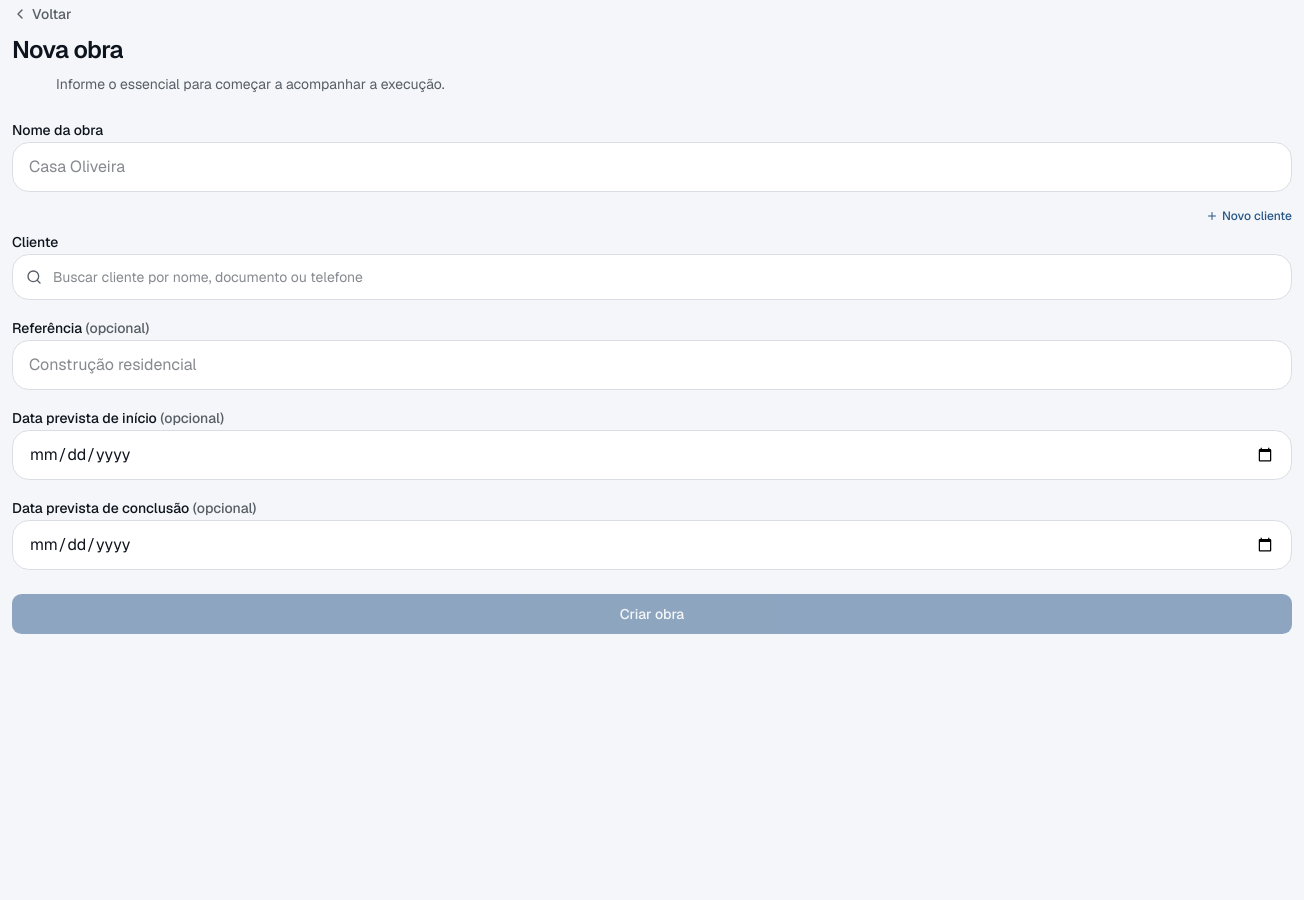
it: ProjectCreateForm › PC8: a 422 on name maps to the name field
This screenshot has width=1304, height=900.
Type "Casa" into the field labelled "Nome da obra" at (652, 167), box [12,142,1292,192]
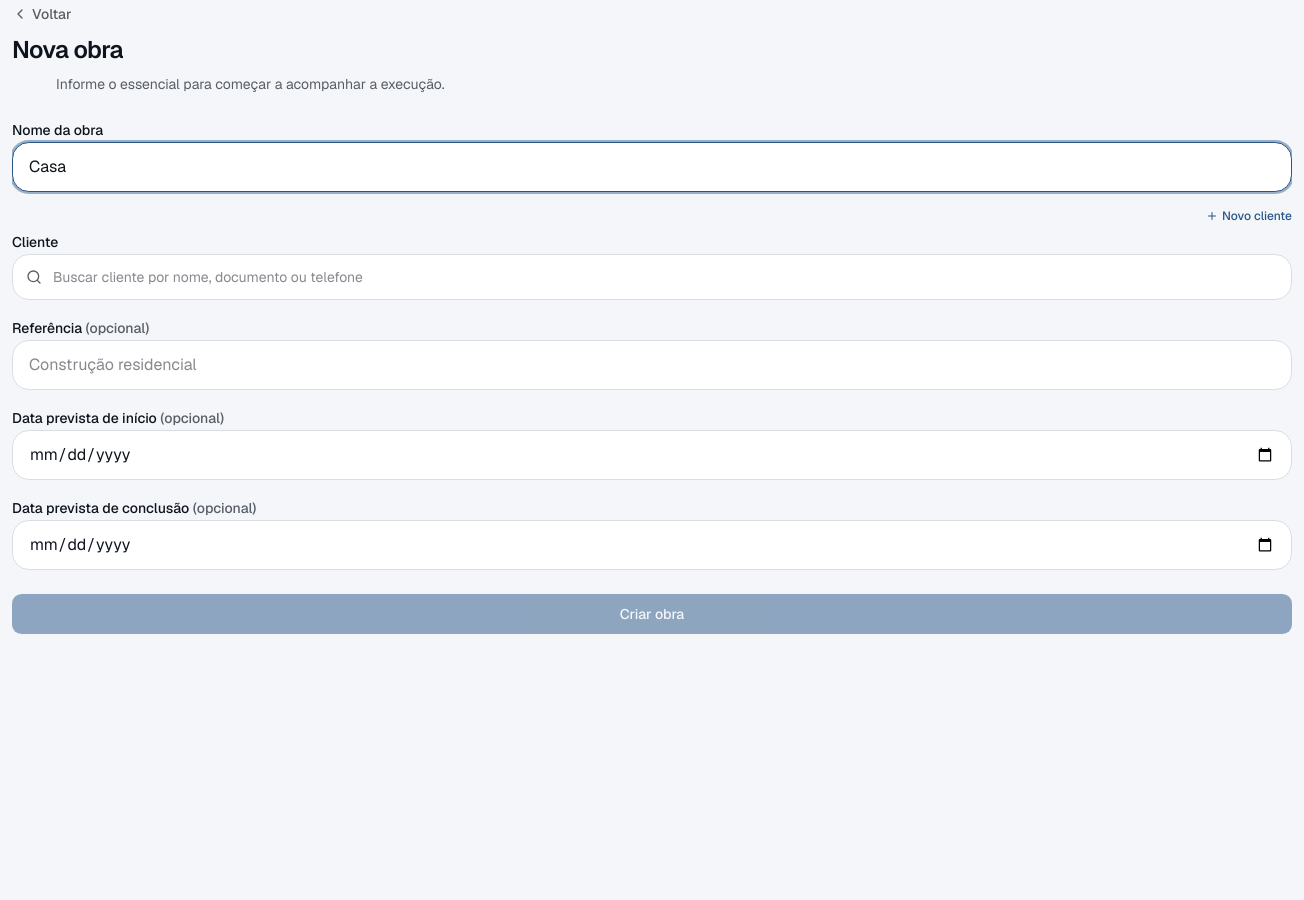
Type "João" into the dropdown labelled "Buscar cliente por nome, documento ou telefone" at (652, 277), box [12,254,1292,300]
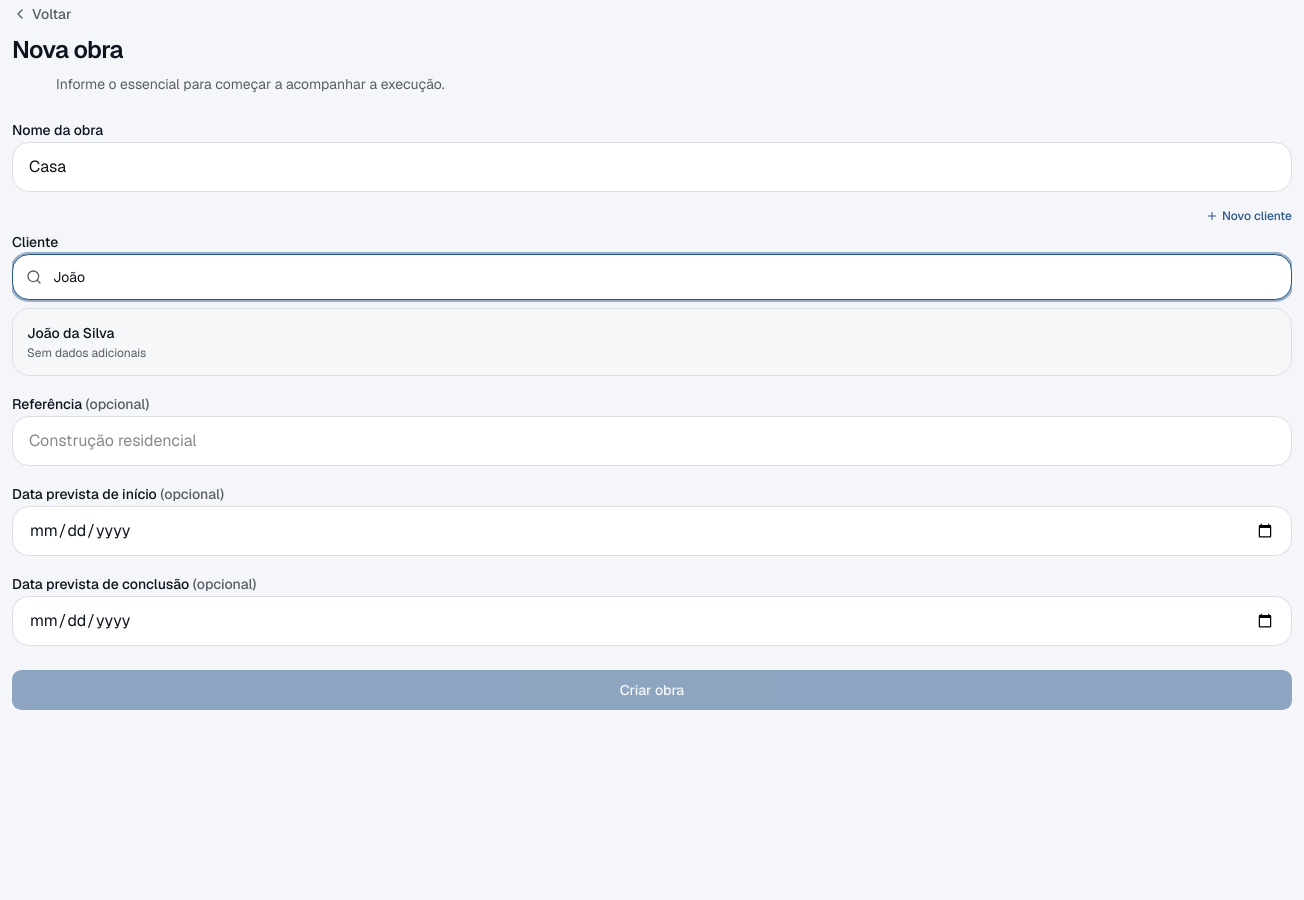
Check: the text "João da Silva" is shown
Click the text "João da Silva" at (71, 333), box [27,323,114,343]
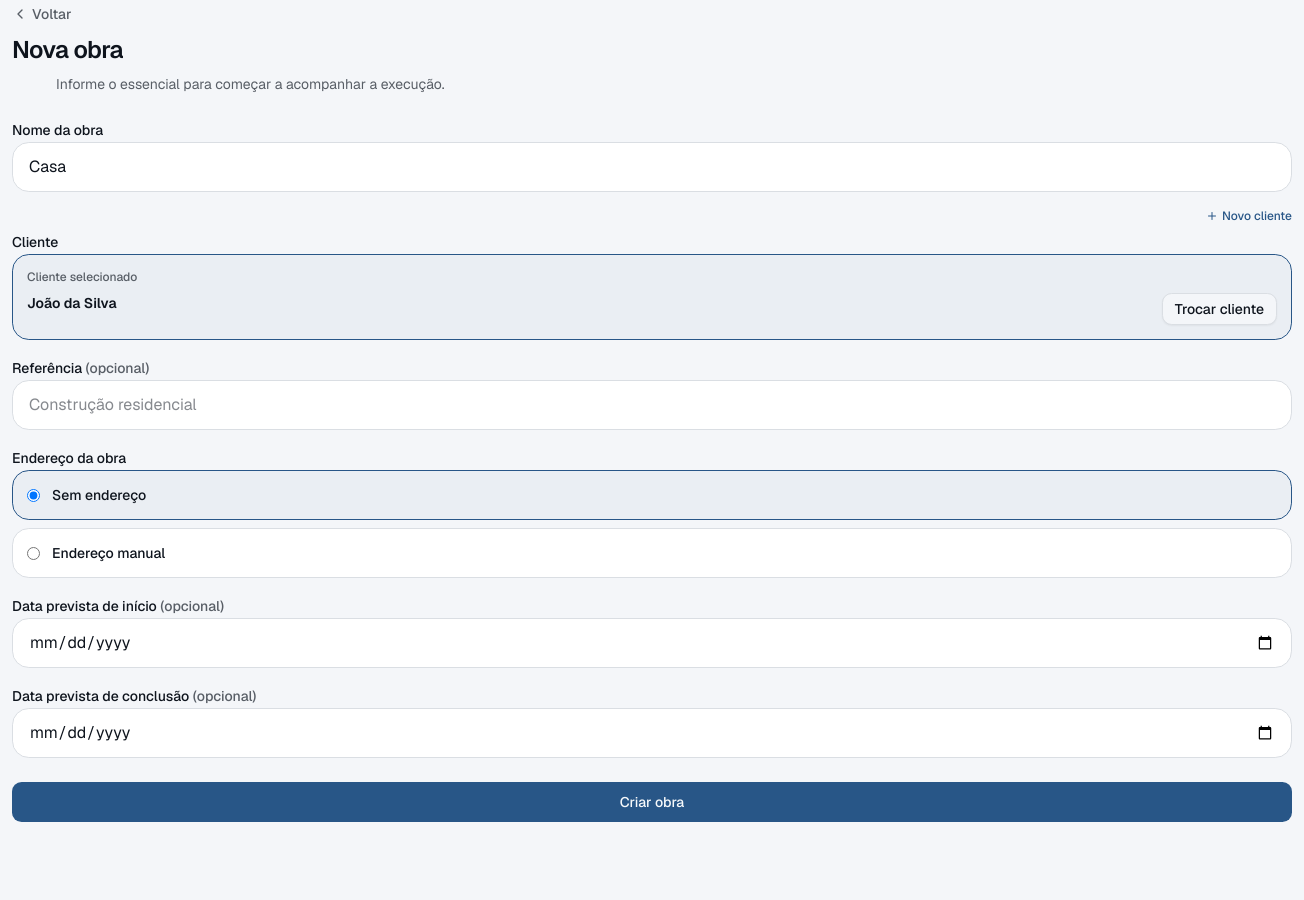
Click the button "Criar obra" at (652, 802), box [12,782,1292,822]
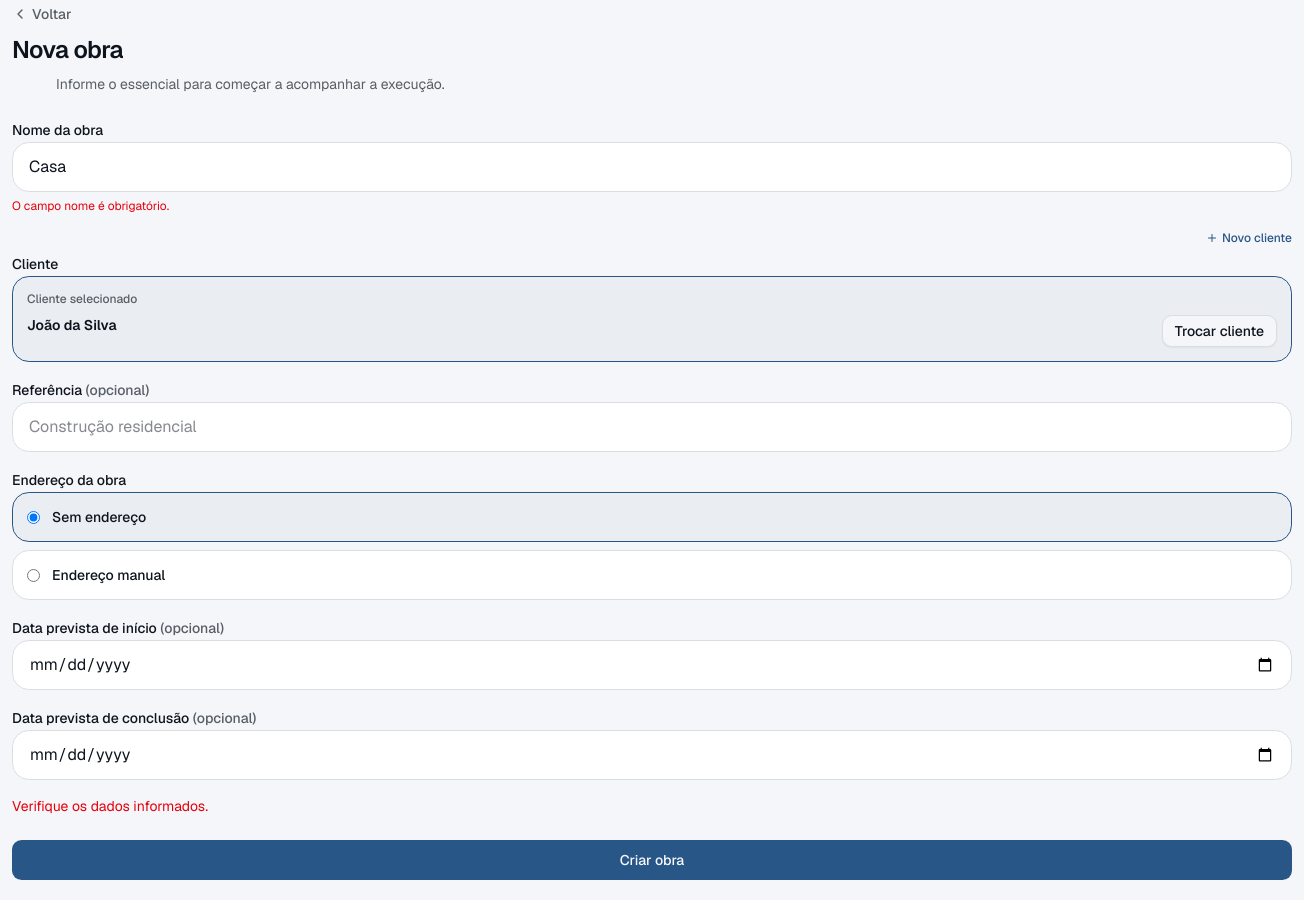
Check: the text "O campo nome é obrigatório." is shown, box [12,198,169,214]
